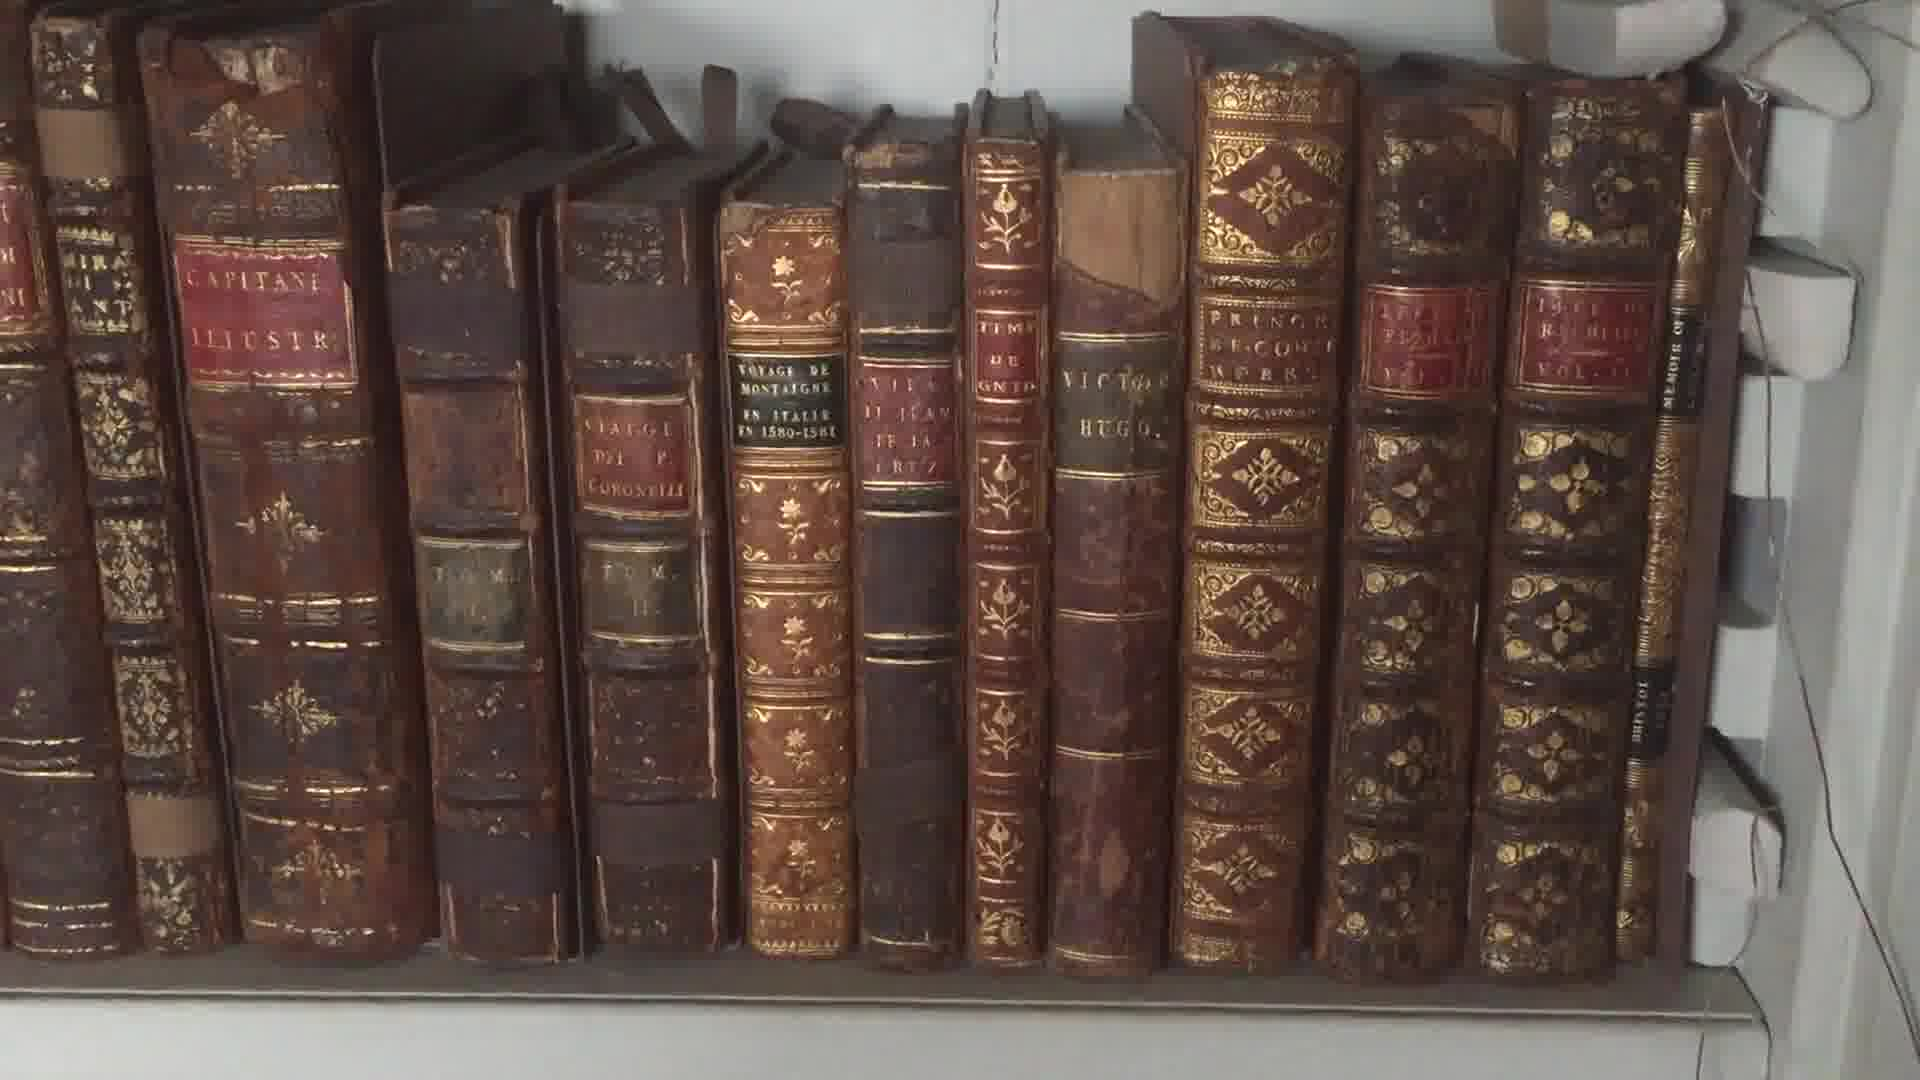Aa6-38: (136, 36, 419, 963)
Aa6-39_40: (380, 173, 736, 973)
Aa6-41: (698, 170, 860, 963)
Aa6-42: (855, 144, 965, 951)
Aa6-43: (948, 136, 1055, 973)
Aa6-44: (1046, 141, 1192, 990)
Aa6-45: (1180, 46, 1338, 982)
Aa6-46-47: (1324, 87, 1685, 1002)
Aa6-48: (1617, 98, 1749, 984)
